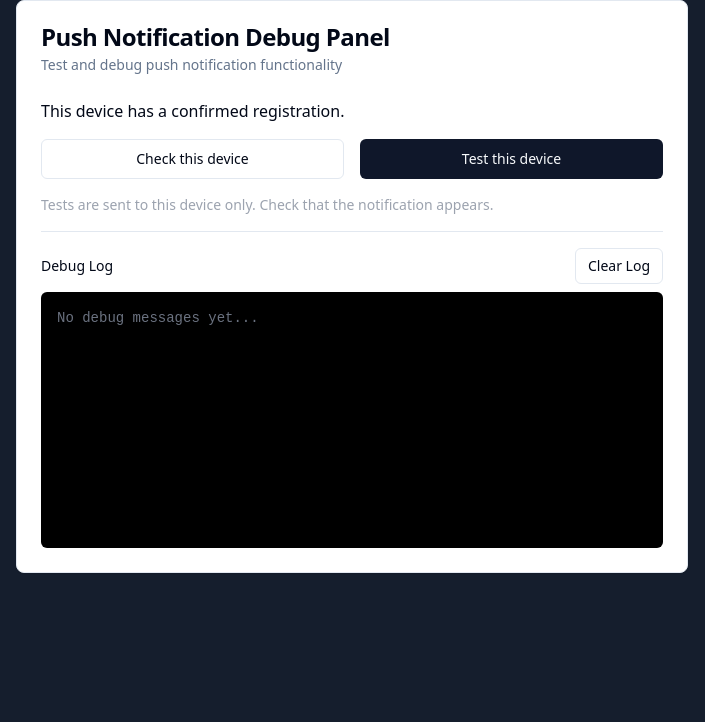
Test case: fixed current-device push diagnostics › preserves an uncertain command across remount, checks only, and retries its exact device and ID
Later steps or results of the test are not shown.
Click the button "Test this device" at (512, 159), box [360,139,663,179]
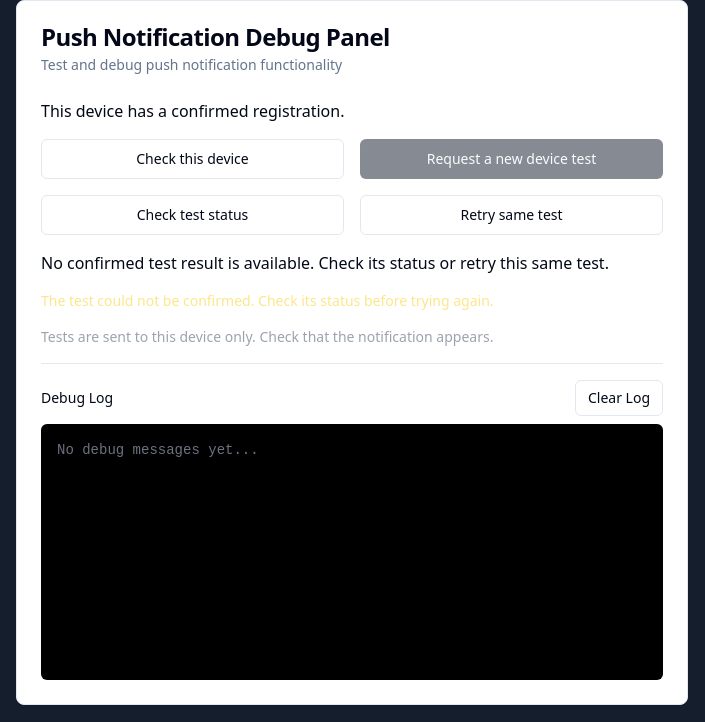
Now the message "The test could not be confirmed. Check its status before trying again." is shown, box [41,291,494,310]
